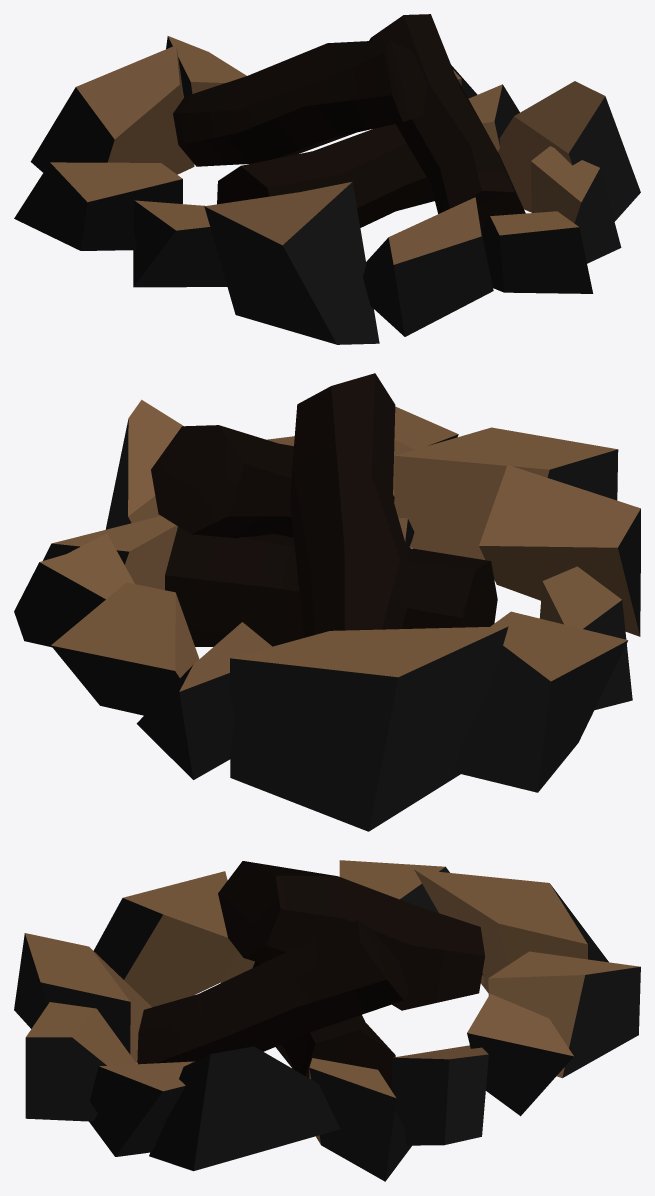
The model's file is fireplace1.fbx.
3 renders of one model, top to bottom at view 1: azimuth 30°, elevation 25°; view 2: azimuth 150°, elevation 25°; view 3: azimuth 270°, elevation 25°, orthographic. The views are drawn at different scales.
Parts seen in each view (by area): view 1: polySurface60; view 2: polySurface60; view 3: polySurface60.
Part boxes in pixels (left/top/right/bottom): polySurface60: left=14, top=14, right=640, bottom=344; polySurface60: left=14, top=373, right=640, bottom=831; polySurface60: left=14, top=860, right=640, bottom=1181.
Bounding box in the file's own units: 2.05 × 0.8777 × 2.18.
